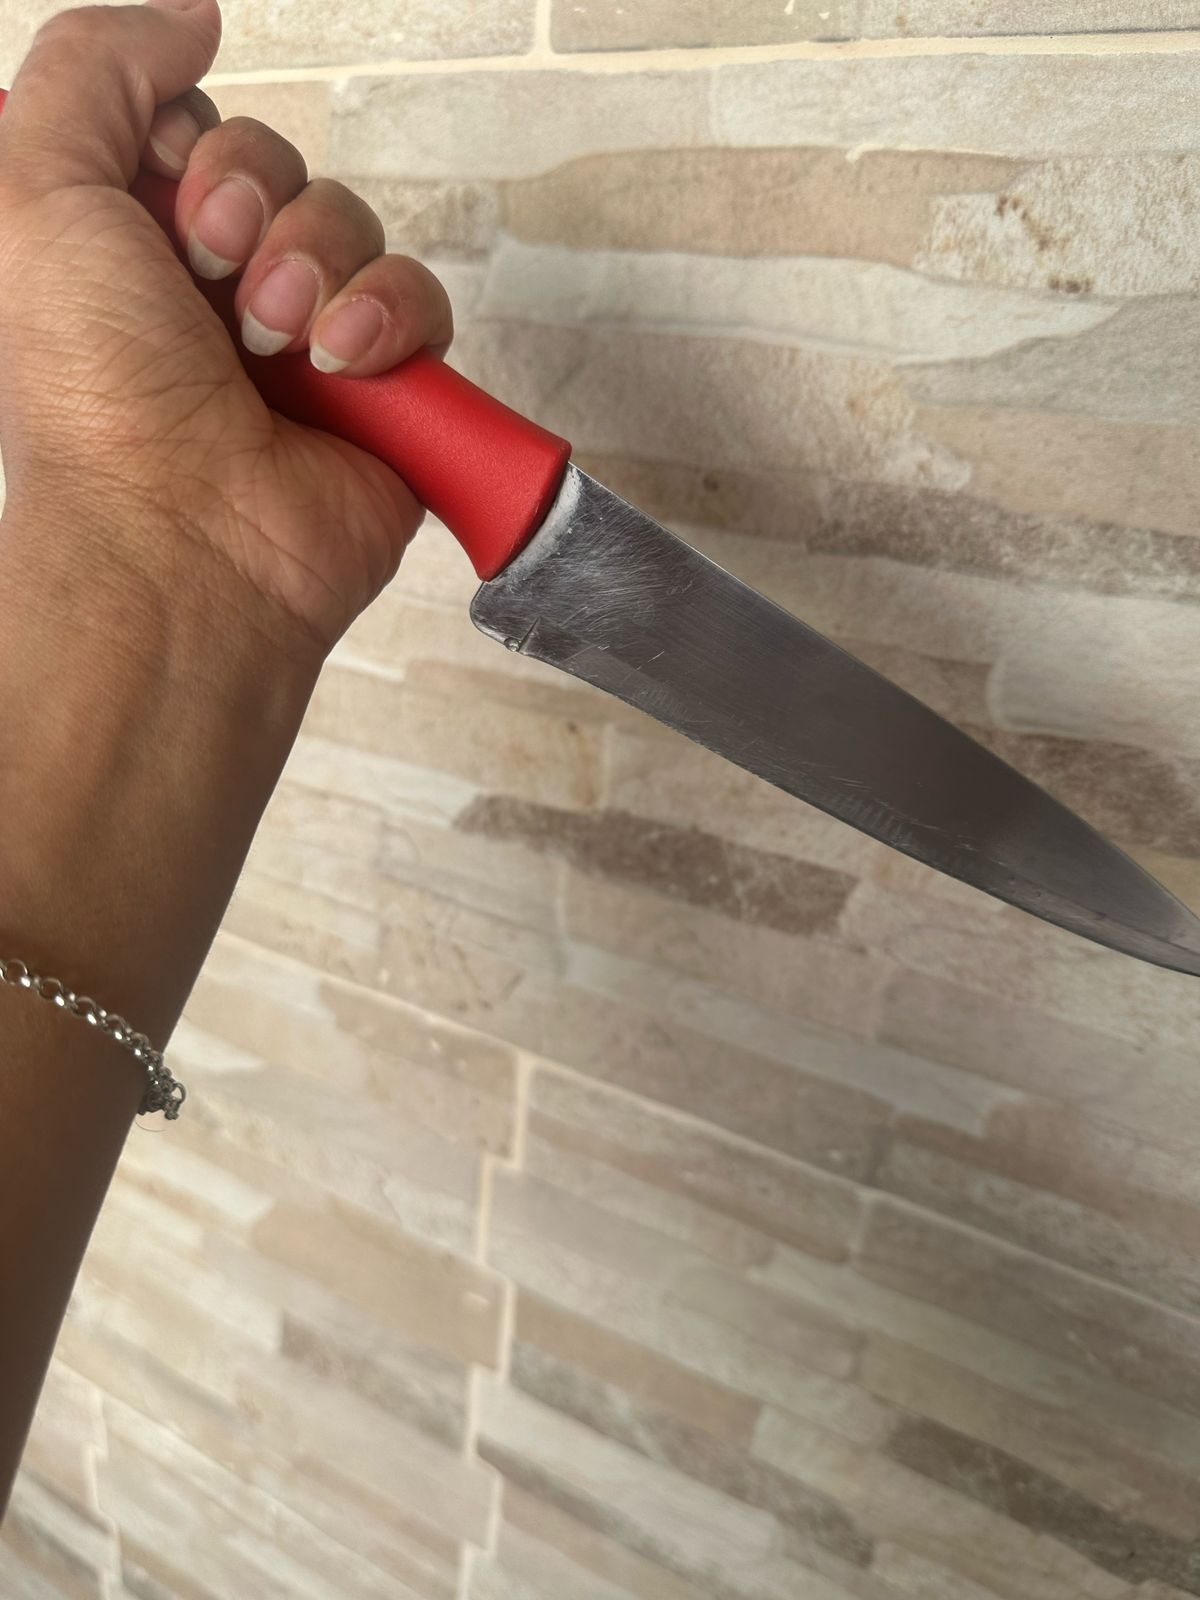faca: (453, 343, 1200, 1002)
